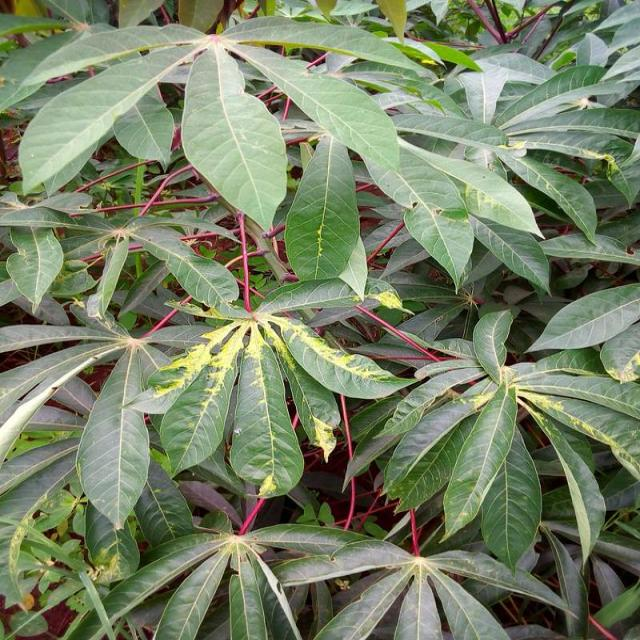cassava leaf: (2, 1, 639, 637), (181, 40, 289, 232), (285, 133, 367, 299)
